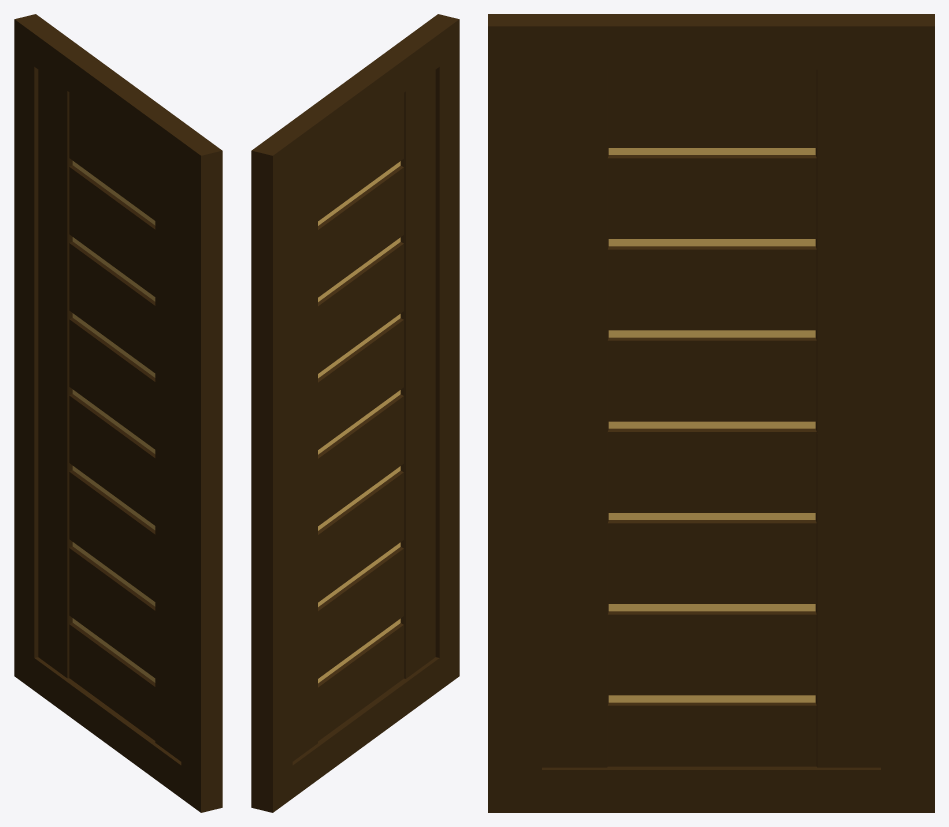
File: Drzwi.fbx
The picture shows the model from 3 angles, left to right: view 1: azimuth 30°, elevation 25°; view 2: azimuth 150°, elevation 25°; view 3: azimuth 270°, elevation 25°; orthographic projection. The views are drawn at different scales.
Visible parts, largest first — view 1: Drzwi, Framuga; view 2: Drzwi, Framuga; view 3: Drzwi, Framuga.
Part boxes in pixels (x1,y1,x2,y2): Drzwi: (38, 70, 181, 761); Framuga: (14, 14, 222, 812); Drzwi: (292, 70, 435, 761); Framuga: (251, 14, 459, 812); Drzwi: (542, 69, 880, 767); Framuga: (488, 14, 934, 812).
Size of the model in its own units: 0.0757 by 2.22 by 1.14.
